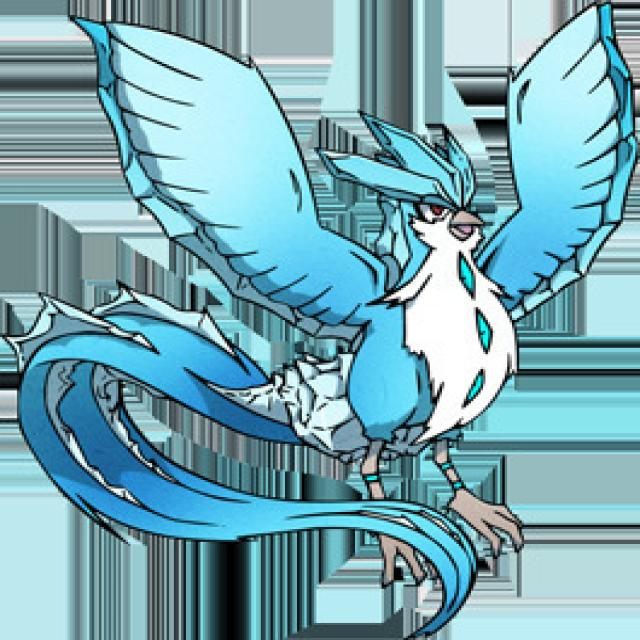Articuno: (120, 24, 640, 538)
